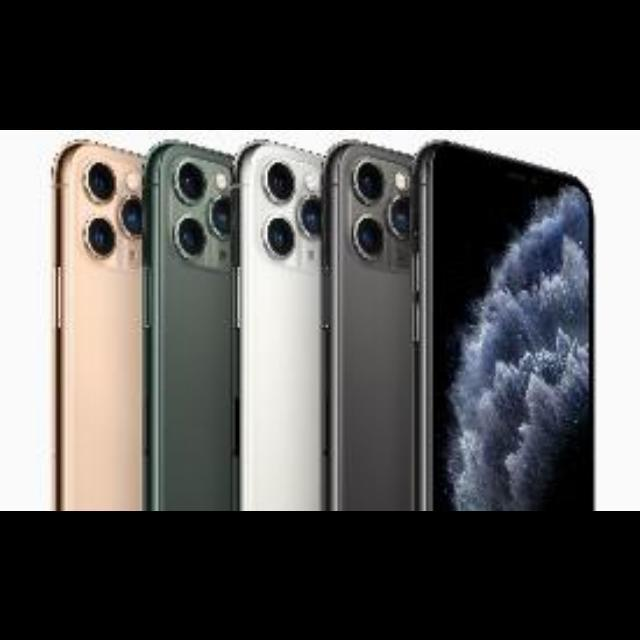Phone: (408, 136, 590, 510), (140, 136, 234, 510), (318, 138, 412, 510), (50, 138, 140, 510), (232, 138, 318, 510)
